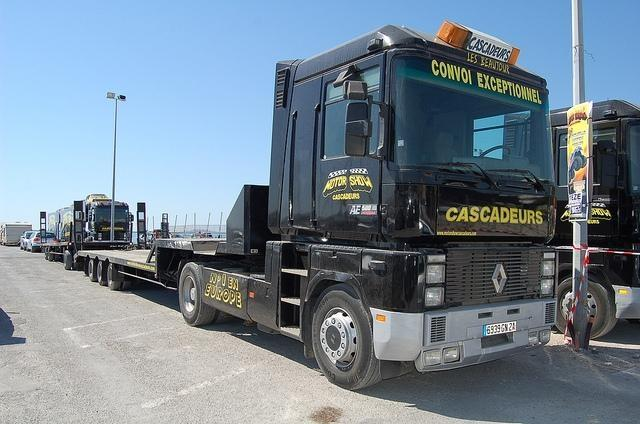bus: (46, 199, 130, 240)
car: (25, 230, 58, 252), (20, 230, 38, 251), (85, 194, 112, 204)
truck: (76, 20, 559, 391), (551, 97, 640, 344), (48, 194, 134, 242)
